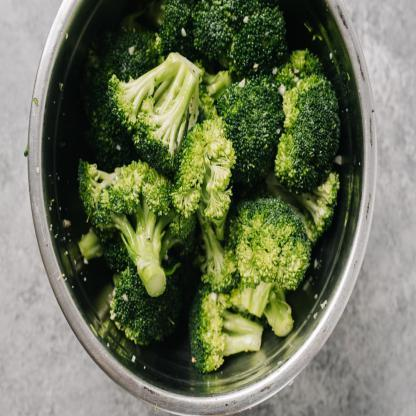broccoli: (60, 0, 348, 372)
